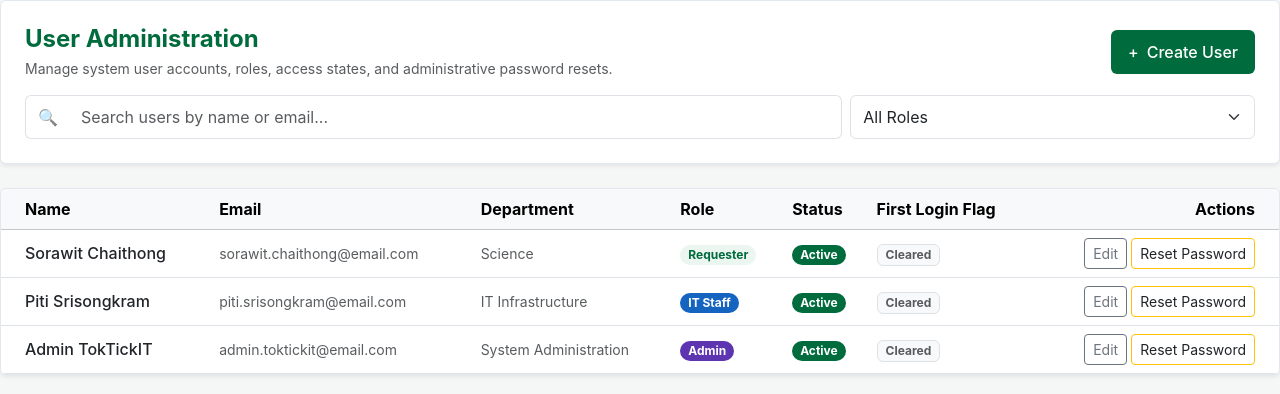
Scenario: UserManagement Component (UI-07 / AC-20..22, BR-16..21) › UI-07: filters user list by role dropdown
The image size is (1280, 394).
expect the row with test id "user-row-1" is shown: met, box 1,229 -> 1279,277
Select "Administrator" in the dropdown with test id "admin-role-filter" at coordinates (1053, 117), box 850,95 -> 1255,139
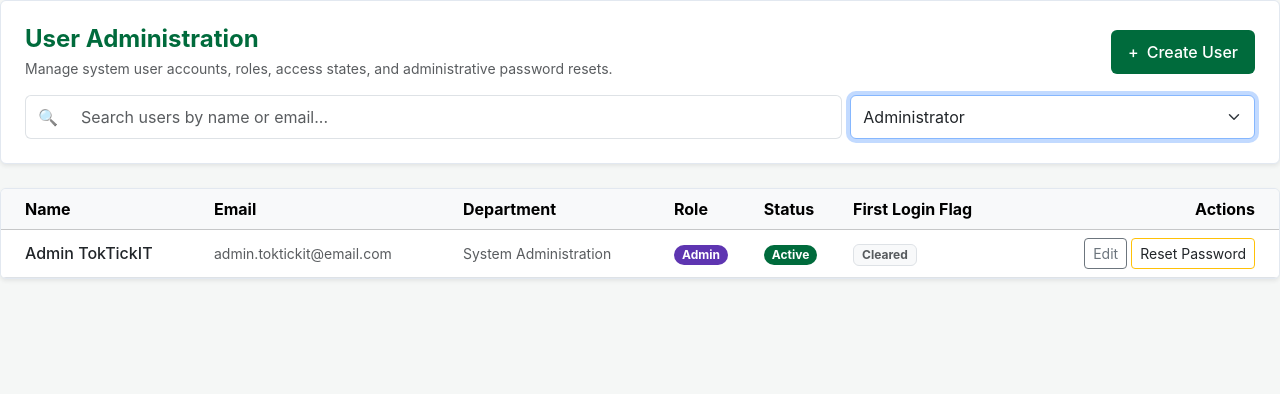
expect the table with test id "admin-users-table" shows "Admin TokTickIT": met, box 25,243 -> 153,263
expect the table with test id "admin-users-table" no longer shows "Sorawit Chaithong": met, box 1,189 -> 1279,278
expect the table with test id "admin-users-table" no longer shows "Piti Srisongkram": met, box 1,189 -> 1279,278
